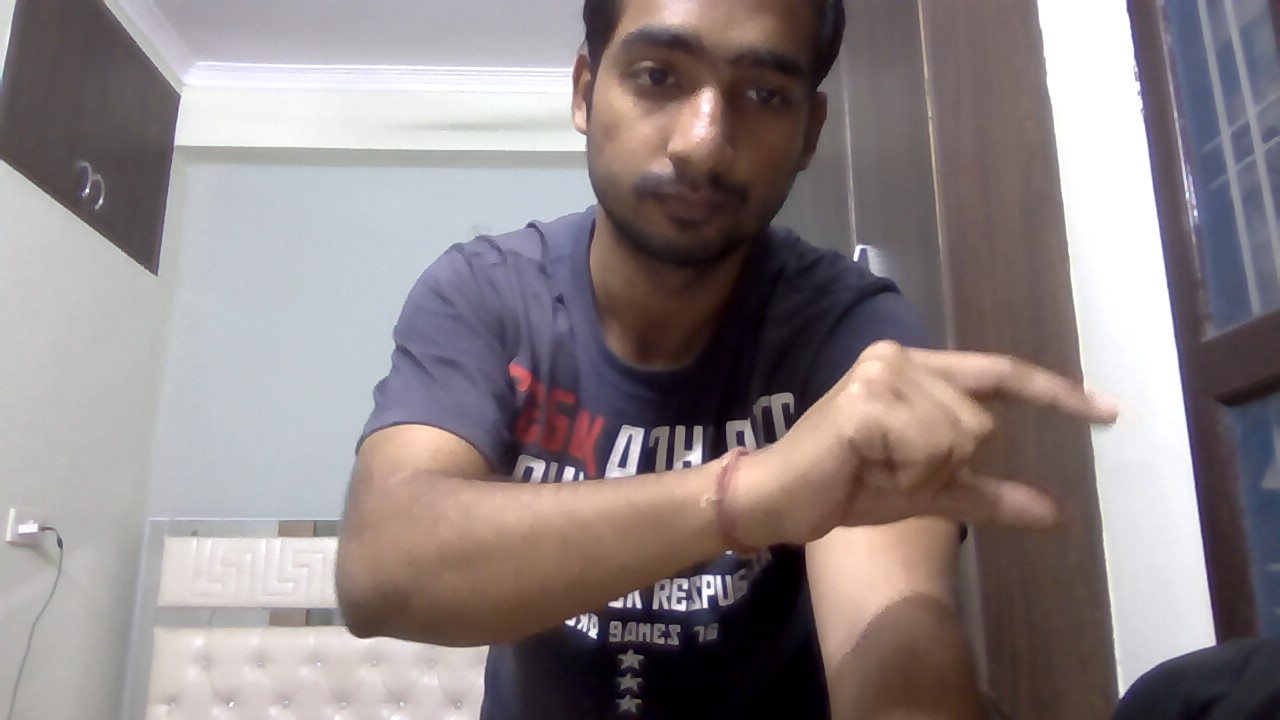Paste: (747, 326, 1128, 584)
